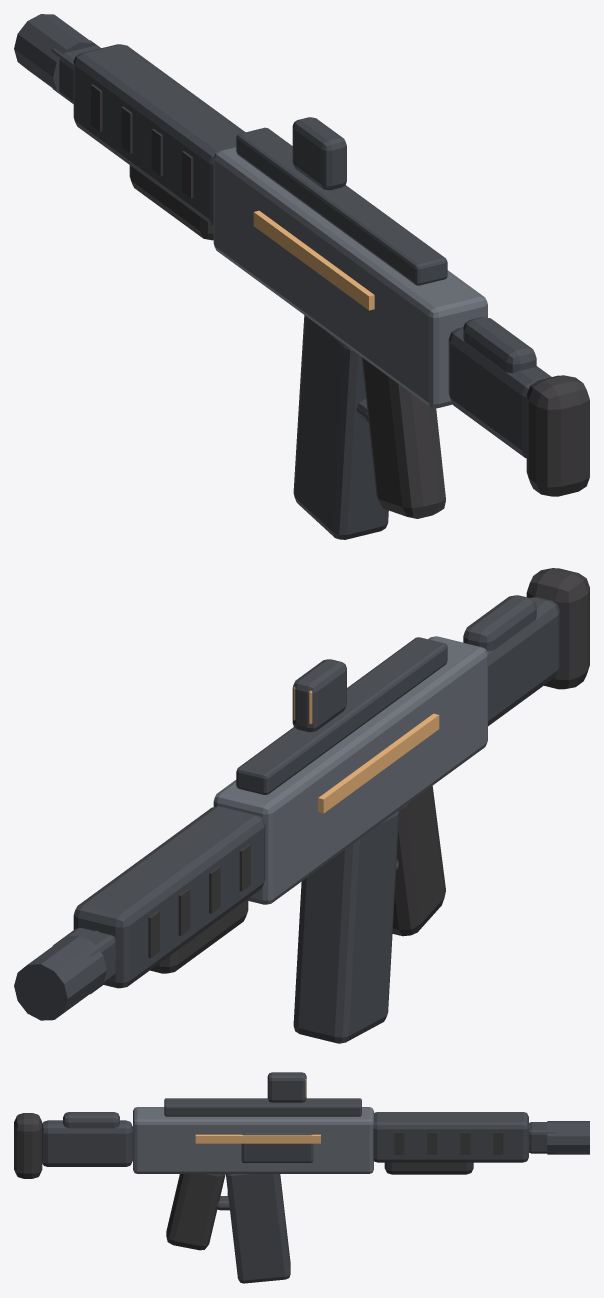
Rendered from WPN_AutoRifle.fbx.
3 views of the same model, one above another, from view 1: azimuth 30°, elevation 25°; view 2: azimuth 150°, elevation 25°; view 3: azimuth 270°, elevation 25° (orthographic). The views are drawn at different scales.
Parts seen in each view (by area): view 1: WPN_AutoRifle; view 2: WPN_AutoRifle; view 3: WPN_AutoRifle.
Part boxes in pixels (x1=…): WPN_AutoRifle: x1=14, y1=14, x2=589, y2=539; WPN_AutoRifle: x1=14, y1=568, x2=589, y2=1043; WPN_AutoRifle: x1=14, y1=1072, x2=589, y2=1283.
Bounding box in the file's own units: 0.062 × 0.3186 × 0.813.
